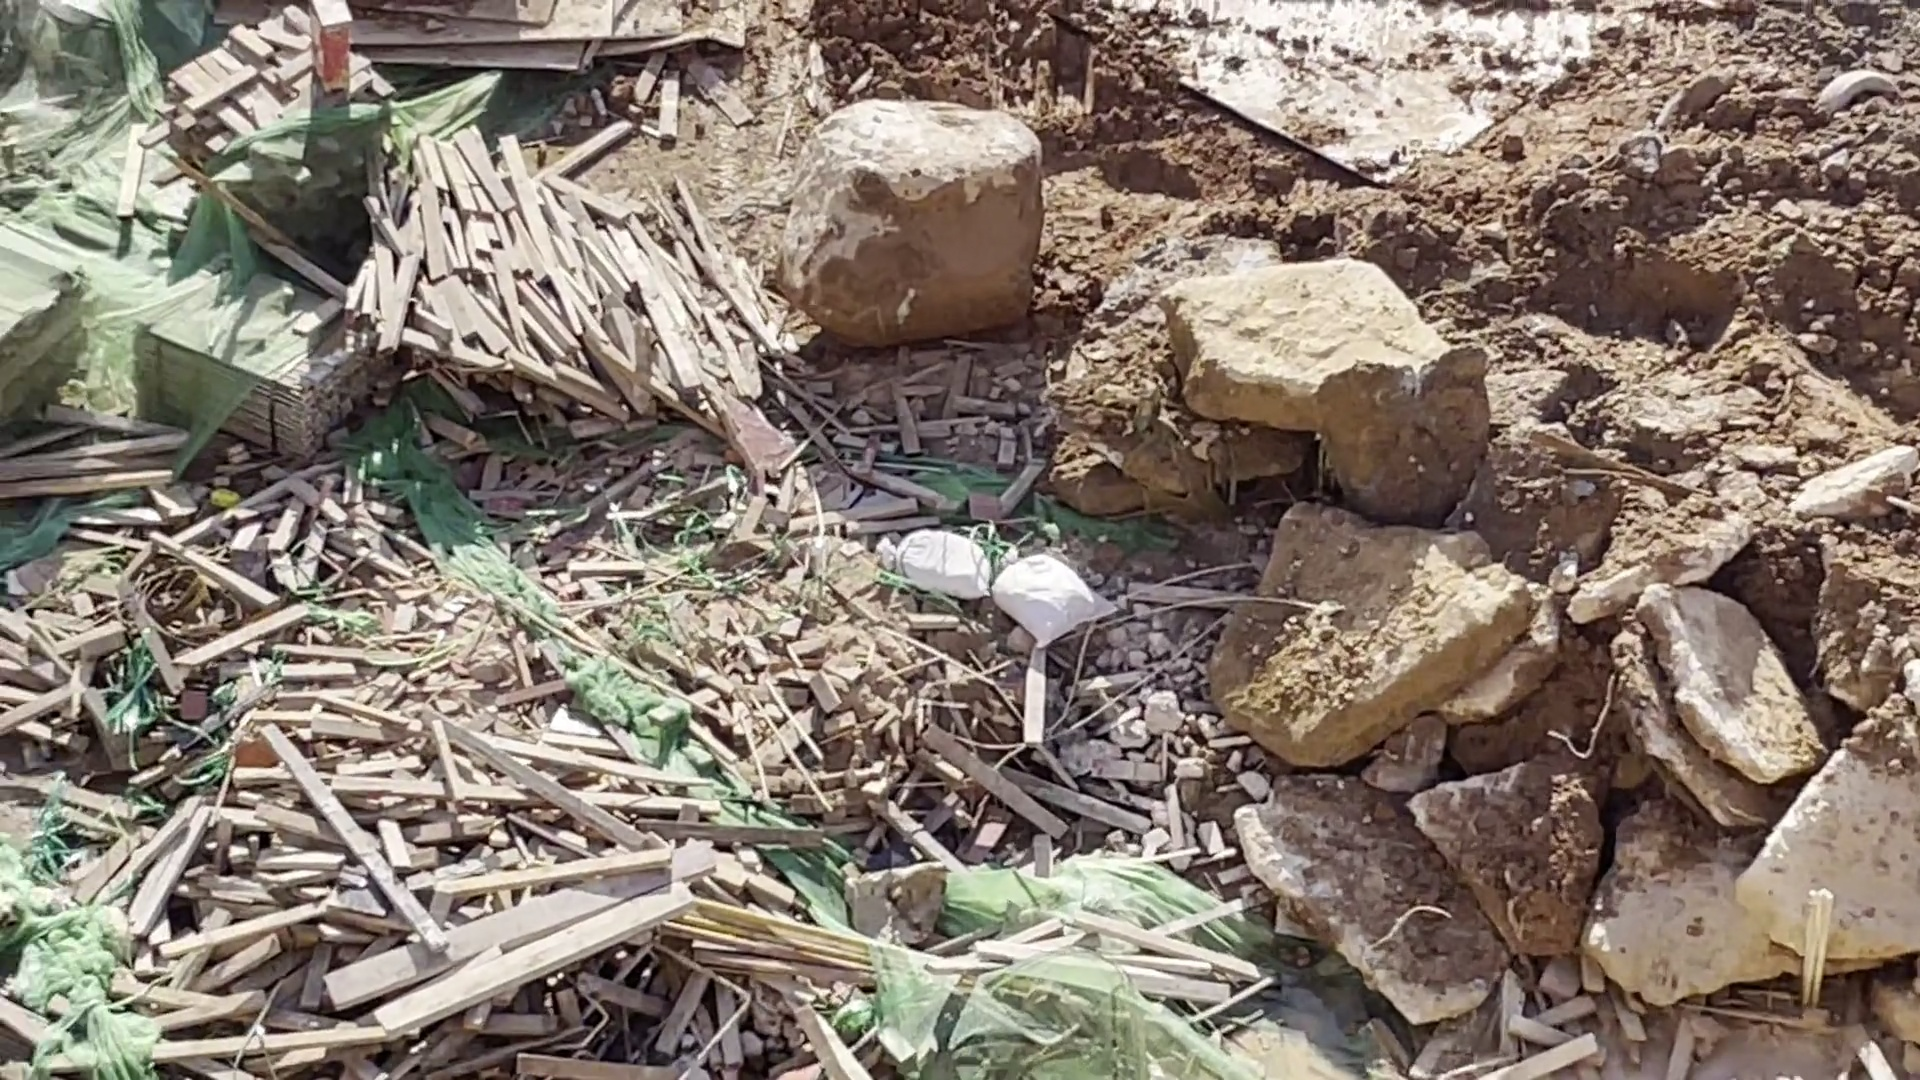wood: (132, 277, 372, 463)
